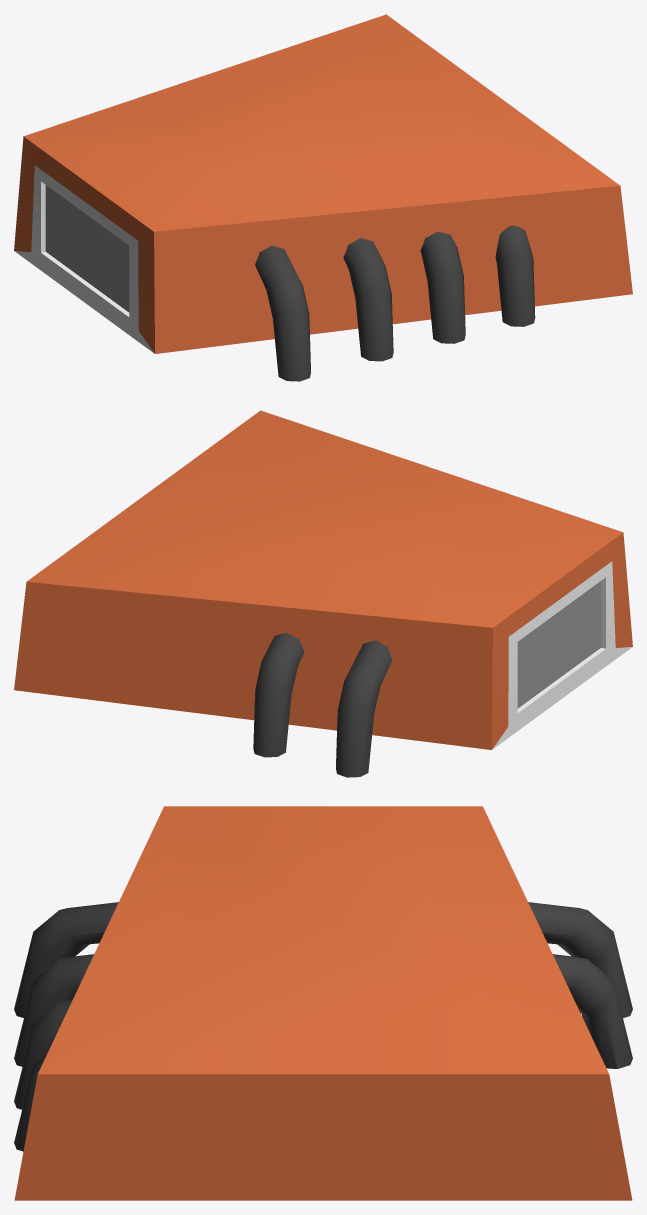
File: Machine_9.fbx
The picture shows the model from 3 angles, top to bottom: view 1: azimuth 30°, elevation 25°; view 2: azimuth 150°, elevation 25°; view 3: azimuth 270°, elevation 25°; orthographic projection. The views are drawn at different scales.
Parts seen in each view (by area): view 1: Machine_9; view 2: Machine_9; view 3: Machine_9.
Boxes of the visible parts, bbox=[...] form: Machine_9: bbox=[14, 14, 632, 381]; Machine_9: bbox=[14, 410, 632, 777]; Machine_9: bbox=[14, 806, 632, 1200].
Bounding box in the file's own units: 1064 × 328 × 1107.
